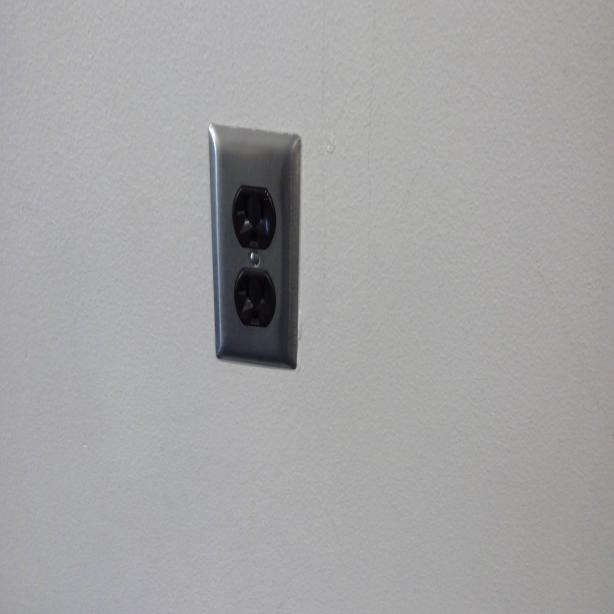typeb: (232, 183, 272, 248), (235, 274, 270, 328)
